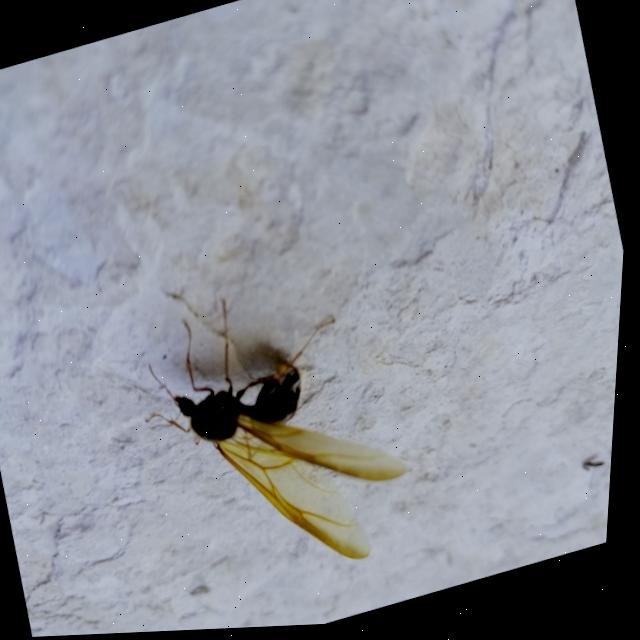Alive-Male-Alate: (116, 254, 442, 617)
